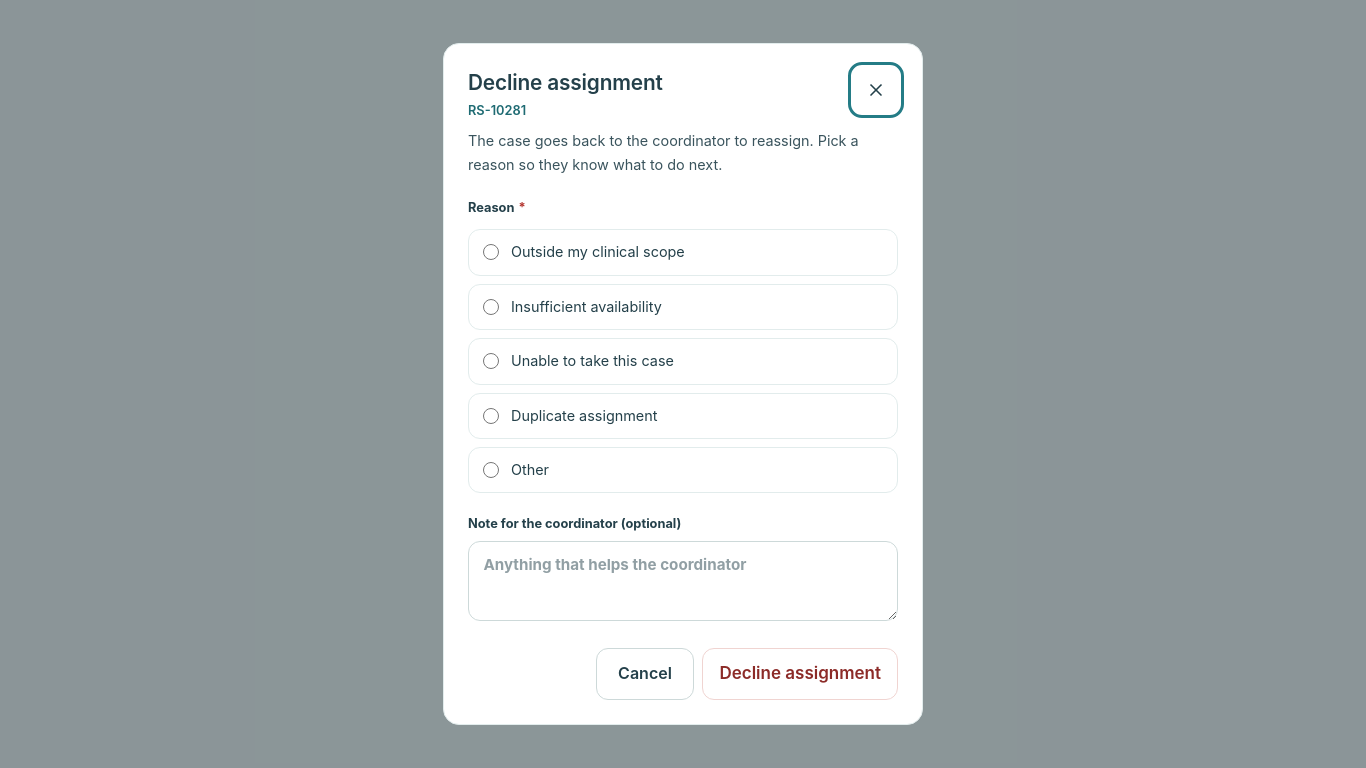
Test: DeclineAssignmentDialog › asks for a structured reason before it will decline
Check: the heading "Decline assignment" is shown, box x1=468 y1=68 x2=663 y2=98
Check: the radio button labelled "Outside my clinical scope" is shown, box x1=483 y1=244 x2=499 y2=260
Click the button "Decline assignment". click: (800, 674)
box: x1=702 y1=648 x2=898 y2=700
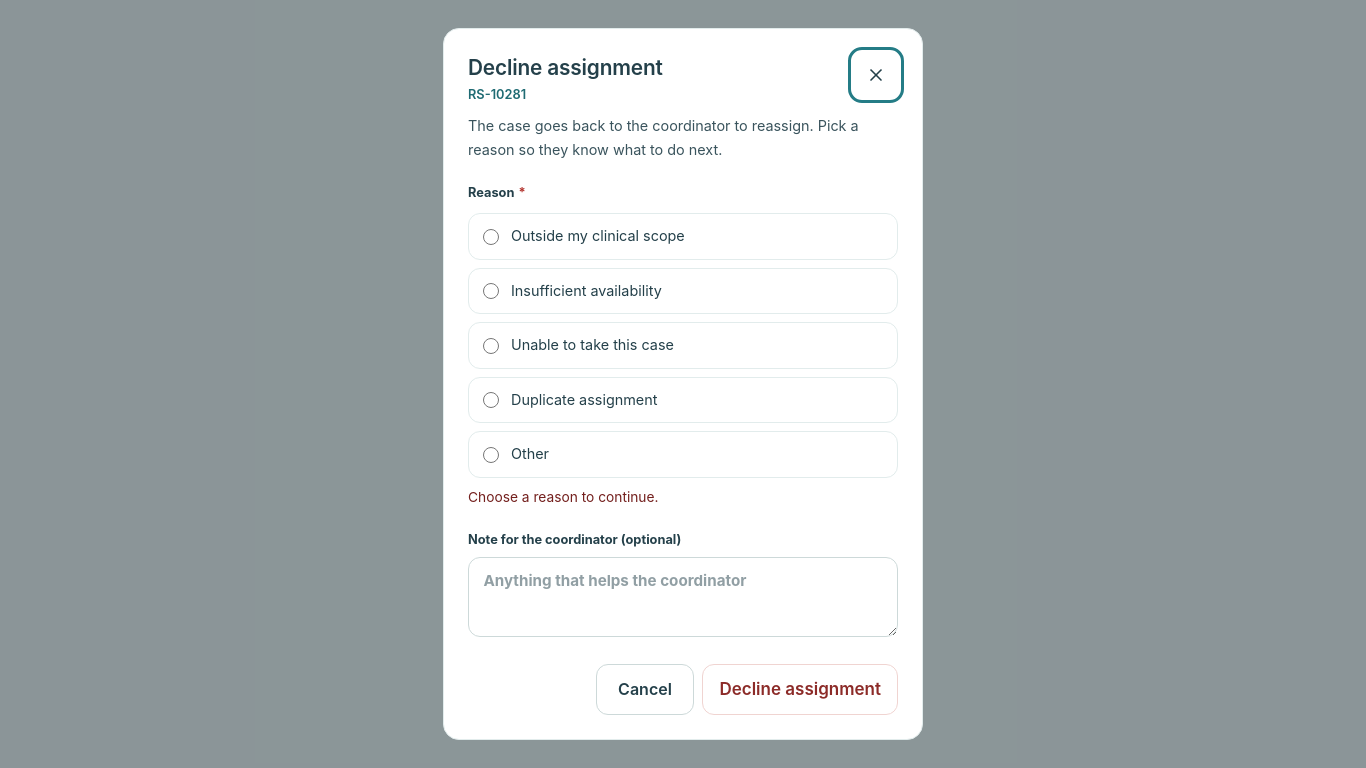
Check: the message shows "Choose a reason", box x1=468 y1=489 x2=658 y2=505
